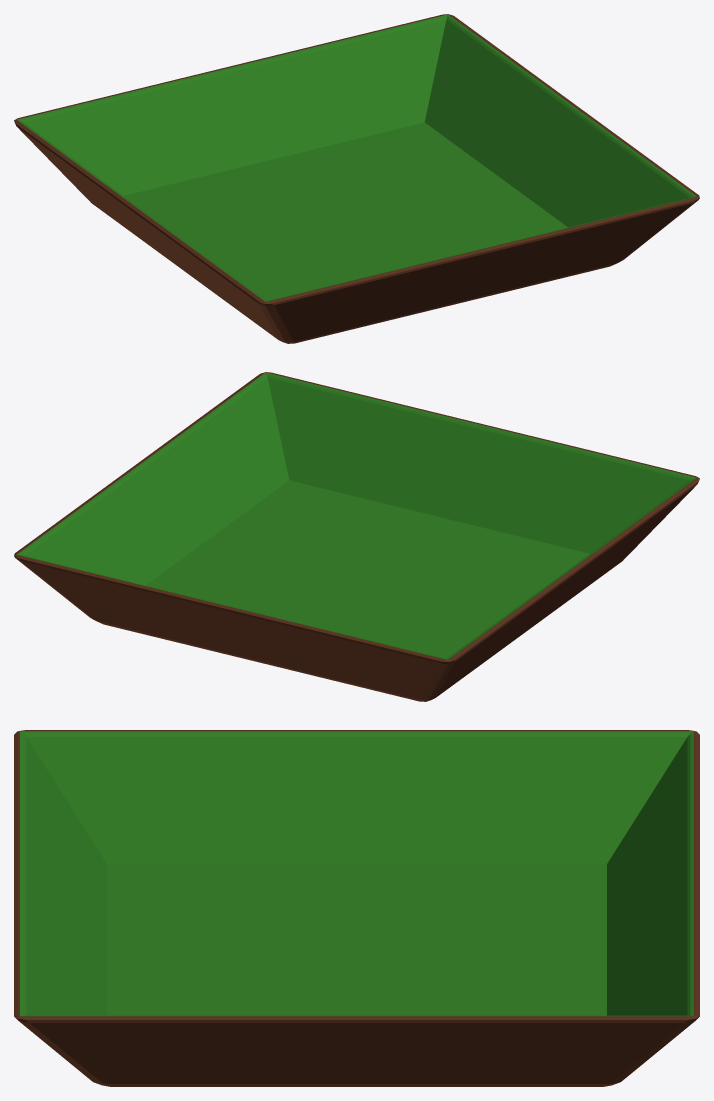
The model's file is Box4Eags.fbx.
The picture shows the model from 3 angles, top to bottom: view 1: azimuth 30°, elevation 25°; view 2: azimuth 150°, elevation 25°; view 3: azimuth 270°, elevation 25°; orthographic projection. The views are drawn at different scales.
Visible parts, largest first — view 1: Cube; view 2: Cube; view 3: Cube.
Boxes of the visible parts, left/top/right/bottom form: Cube: left=14, top=14, right=699, bottom=343; Cube: left=14, top=372, right=699, bottom=701; Cube: left=14, top=730, right=699, bottom=1086.
Size of the model in its own units: 264 by 45.39 by 264.
